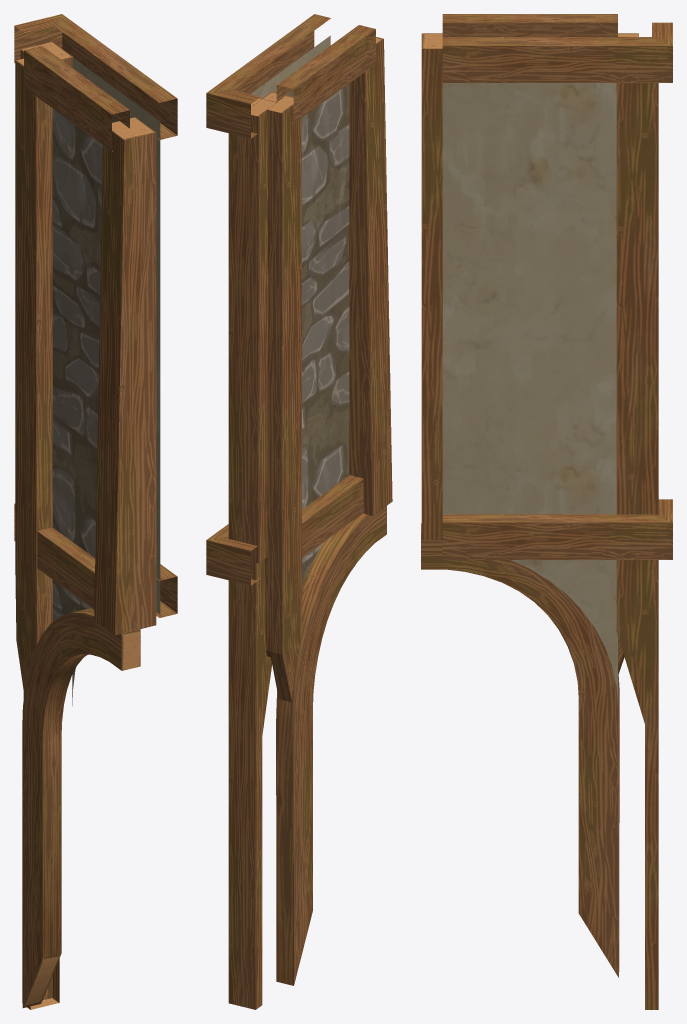
Rendered from Overhang_Side_UnevenBrick_Short_L.gltf.
3 views of the same model, side by side, from view 1: azimuth 30°, elevation 25°; view 2: azimuth 150°, elevation 25°; view 3: azimuth 270°, elevation 25° (orthographic). The views are drawn at different scales.
Visible parts, largest first — view 1: Overhang_Side_UnevenBrick_Short_L; view 2: Overhang_Side_UnevenBrick_Short_L; view 3: Overhang_Side_UnevenBrick_Short_L.
Boxes of the visible parts, <box> form: Overhang_Side_UnevenBrick_Short_L: <box>14,14,177,1009</box>; Overhang_Side_UnevenBrick_Short_L: <box>206,14,392,1009</box>; Overhang_Side_UnevenBrick_Short_L: <box>421,14,672,1009</box>.
Bounding box in the file's own units: 0.4793 × 6.12 × 1.44.
Materials: 3 (3 with a texture image).
